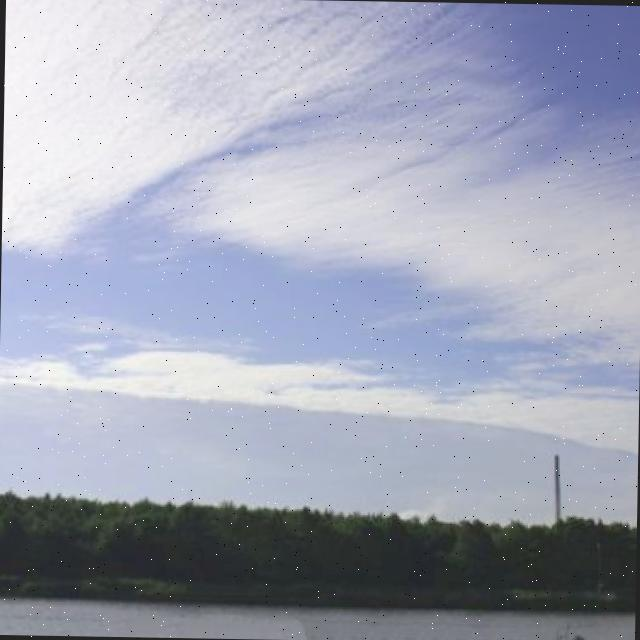Cc: (1, 1, 640, 369)
